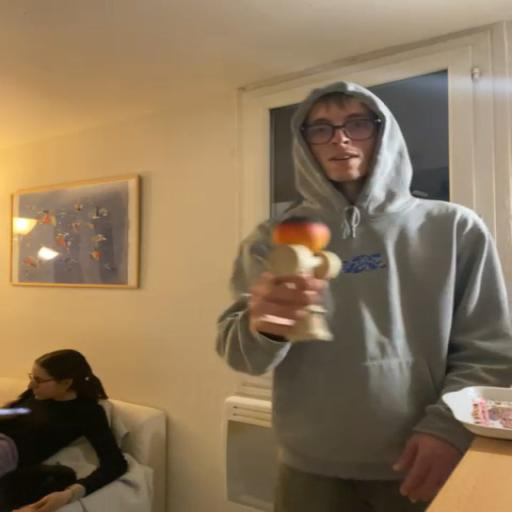kendama_ball: (271, 216, 332, 254)
